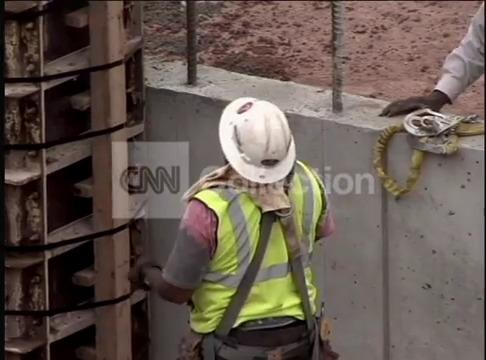Gloves: (129, 246, 156, 279)
Helmet: (218, 96, 296, 184)
Person: (128, 96, 337, 359), (378, 0, 485, 120)
Safety Vest: (199, 178, 312, 307)
bare-arms: (387, 94, 435, 118)
